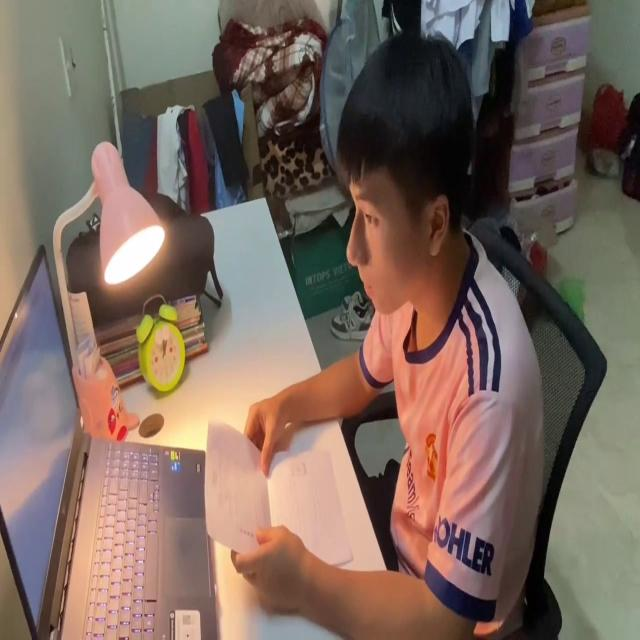book: (204, 408, 352, 579)
laptop: (0, 239, 223, 640)
student: (231, 26, 546, 640)
